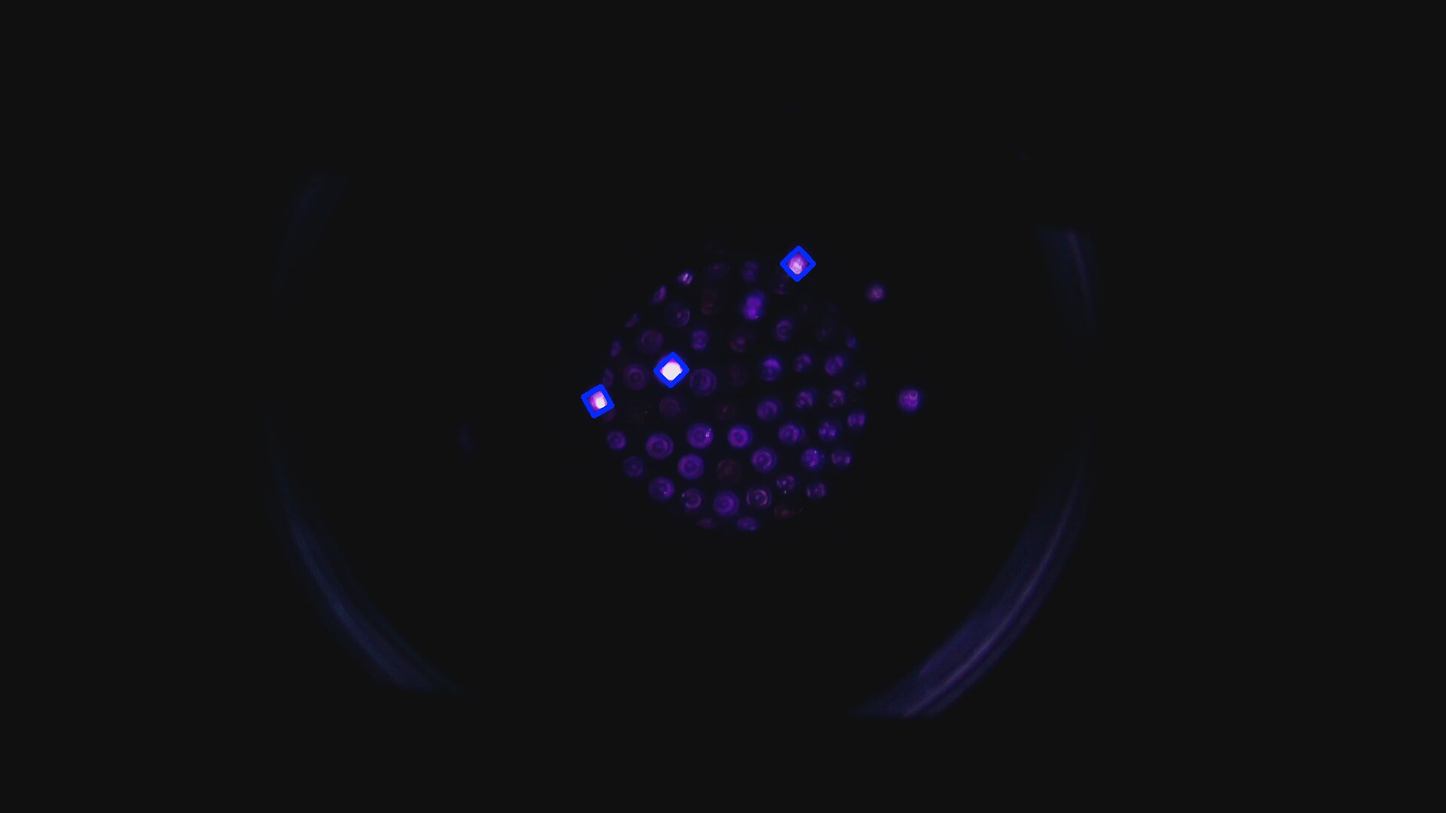plastic: (649, 348, 694, 393), (776, 241, 820, 286), (578, 381, 617, 421)
